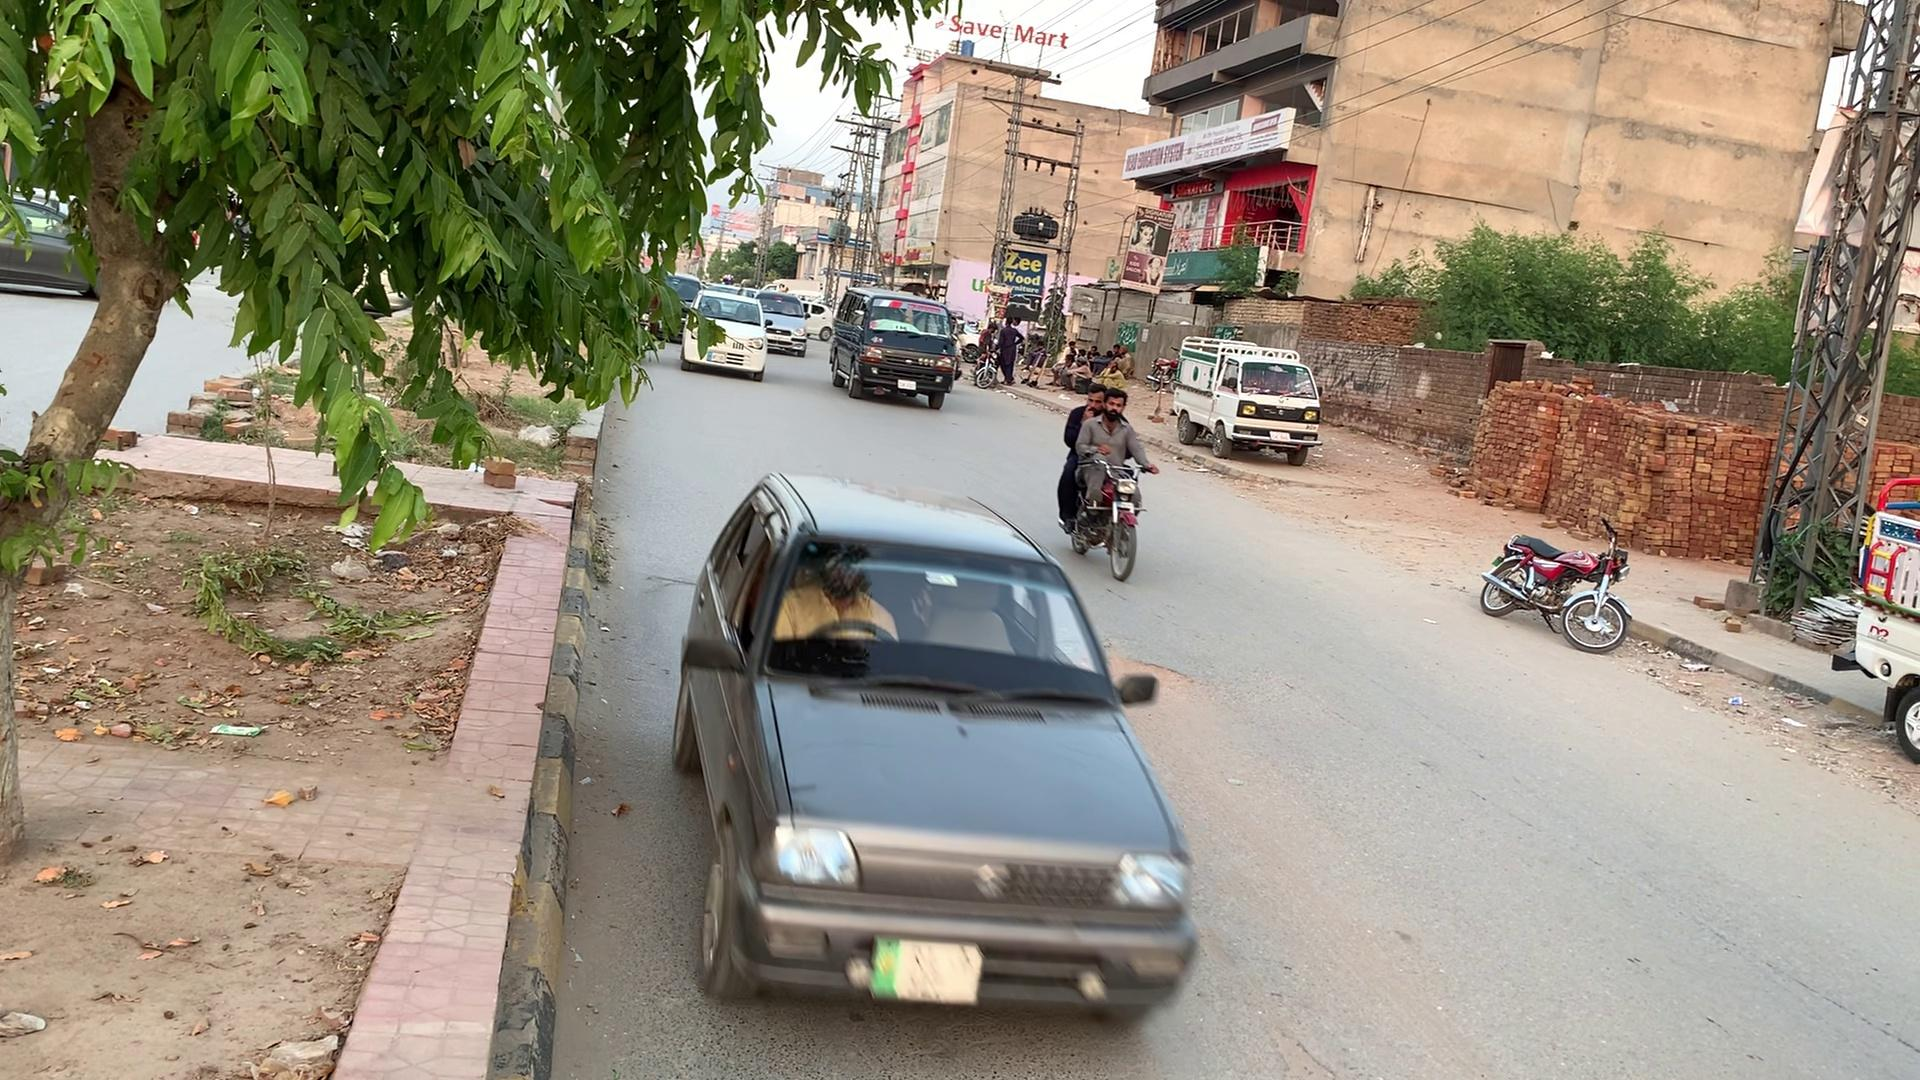windshield: (741, 530, 1130, 716)
